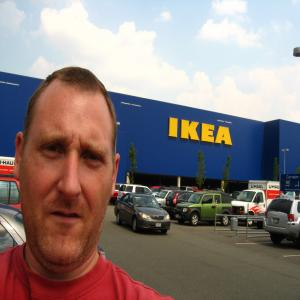Vehicle-registration-plate: (157, 223, 163, 229), (274, 219, 280, 224), (176, 215, 179, 219)
